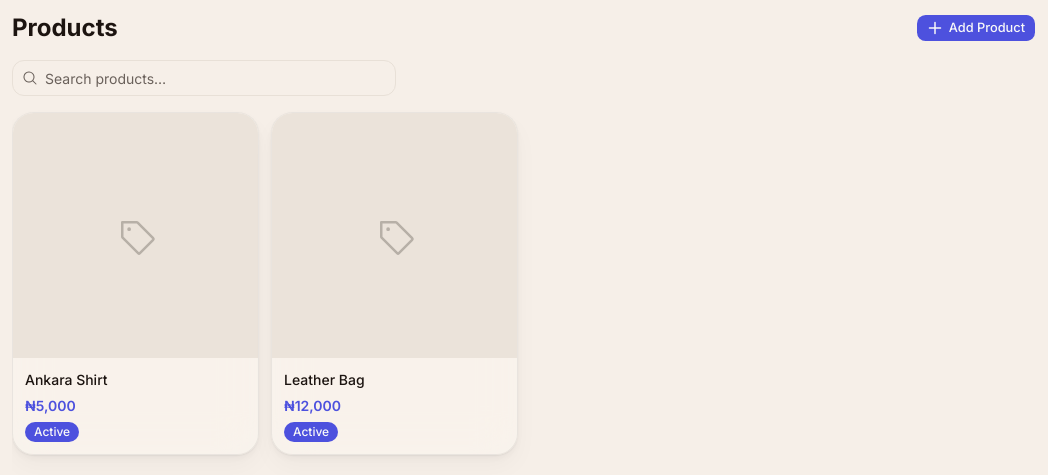
ProductsPage › filters products by search input
This screenshot has width=1048, height=475.
Type "ankara" into the field with placeholder "Search products…" at (204, 78), box [12,60,396,96]
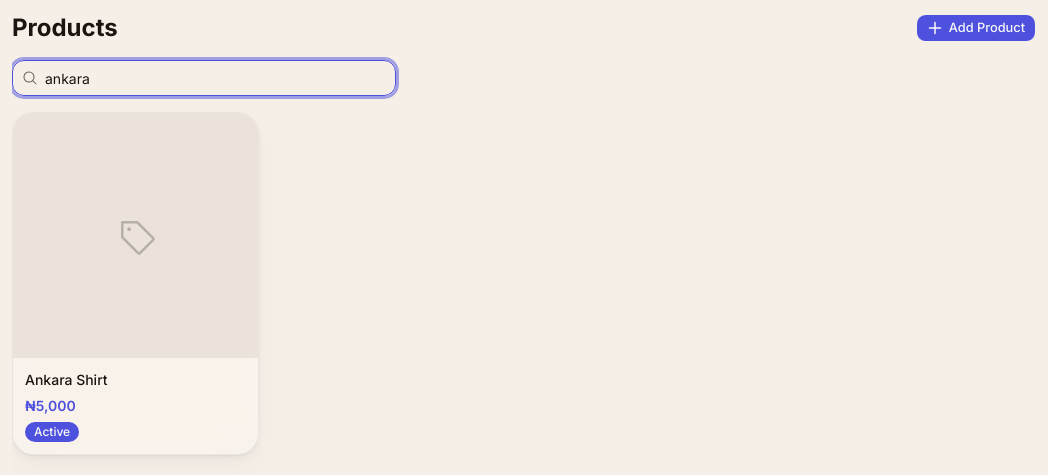
expect the text "Ankara Shirt" is shown: met, box [25,371,108,388]
expect the link "Leather Bag" is gone: met
